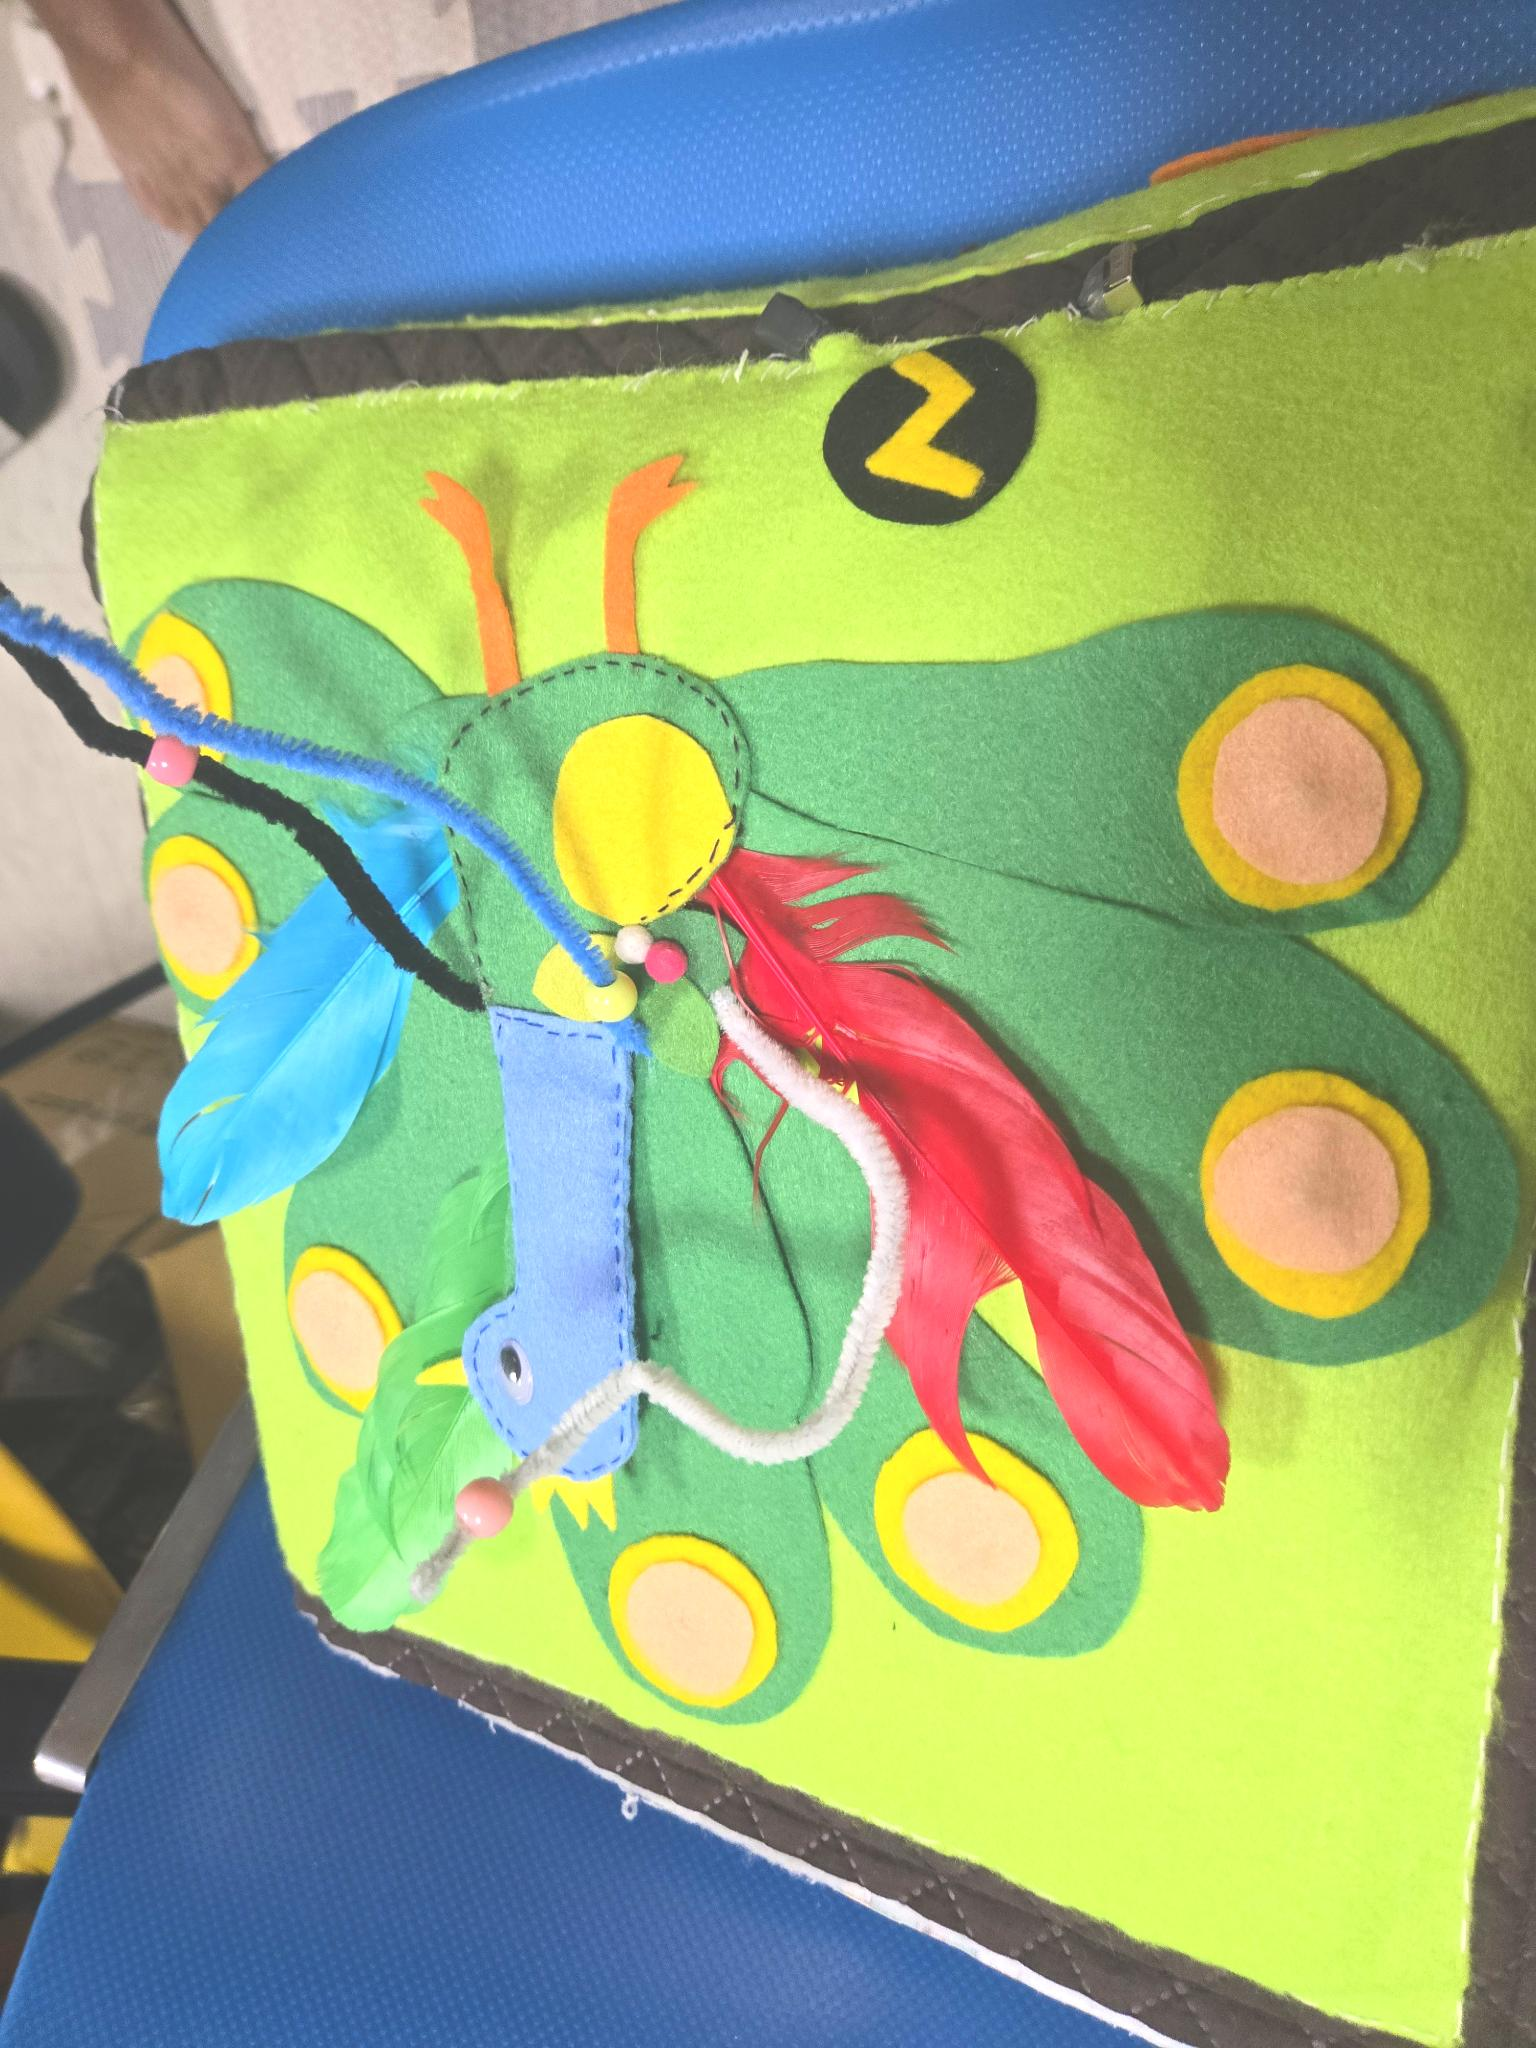bead: (123, 706, 219, 813), (436, 1456, 518, 1556), (573, 969, 644, 1048)
